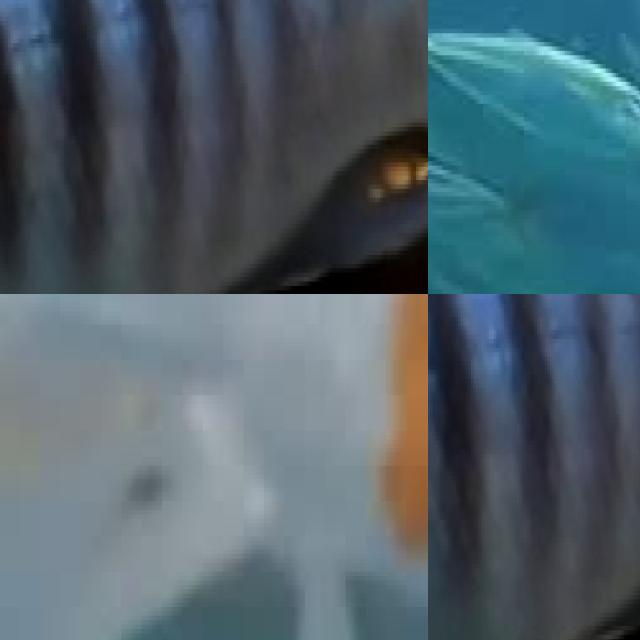fish: (0, 0, 428, 294), (428, 294, 640, 640)
